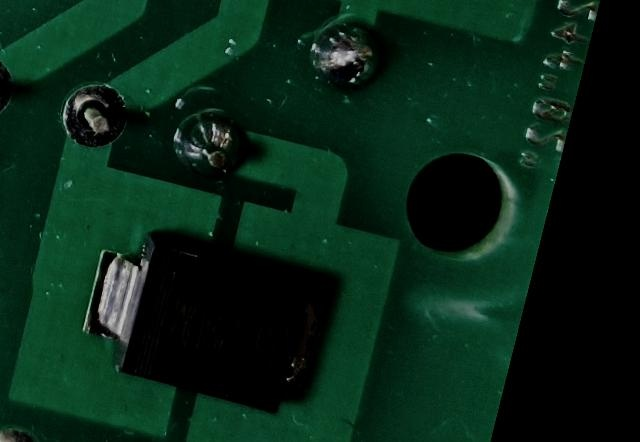diode: (65, 211, 342, 426)
